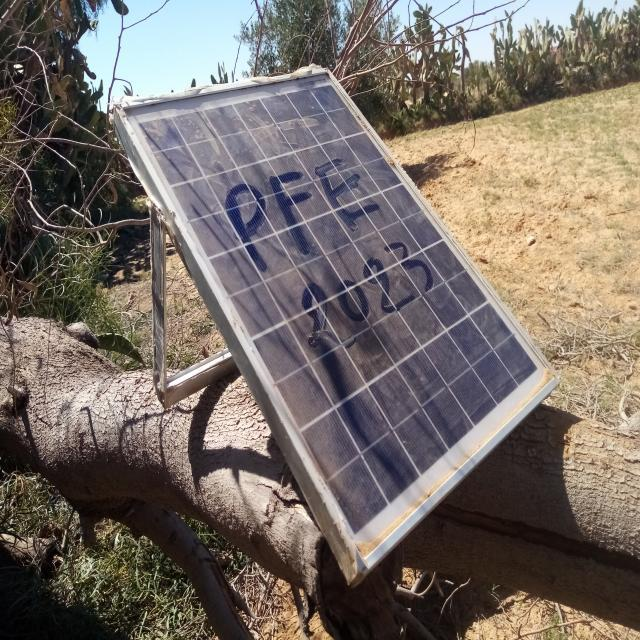faulty: (119, 68, 558, 568)
